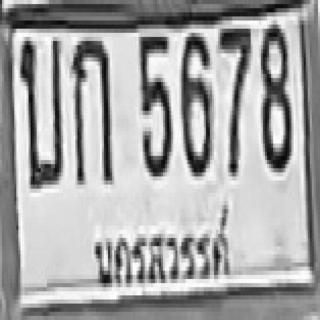A01: (70, 37, 111, 185)
A26: (17, 35, 62, 187)
N05: (139, 33, 171, 172)
N06: (180, 29, 210, 172)
N07: (218, 25, 249, 172)
N08: (259, 20, 290, 168)
P31: (90, 212, 233, 289)
